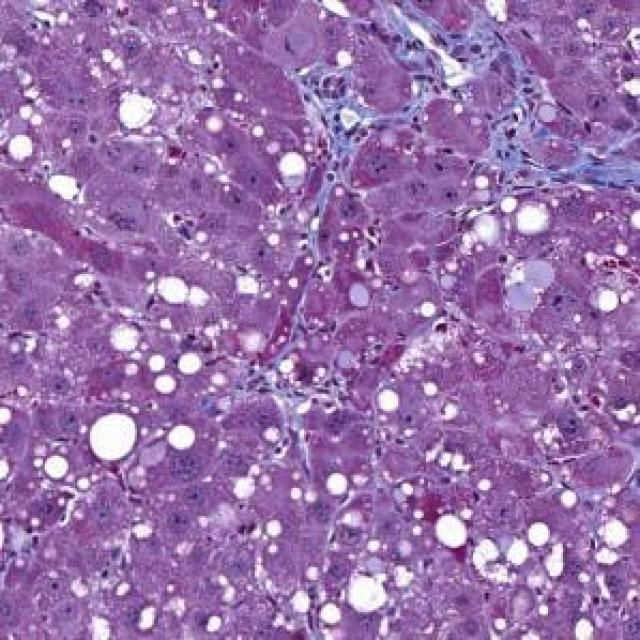fibrosis: (372, 7, 522, 98), (306, 72, 388, 148)
